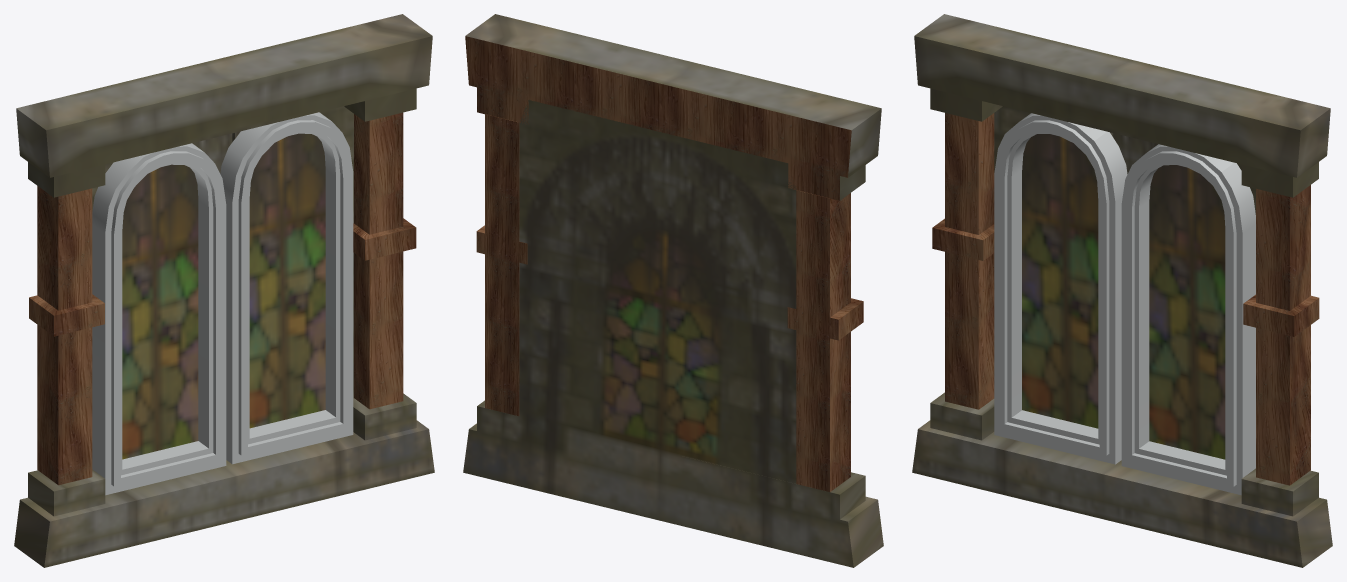
The model's file is window.fbx.
3 renders of one model, left to right at view 1: azimuth 30°, elevation 25°; view 2: azimuth 150°, elevation 25°; view 3: azimuth 330°, elevation 25°, orthographic.
Parts seen in each view (by area): view 1: frame_top, frame_back, mainFrame_l, windowpane_r, windowpane_l, mainFrame_r, support_l, frame_r; view 2: frame_back, frame_top, support_l, frame_r; view 3: frame_top, frame_back, mainFrame_r, windowpane_r, windowpane_l, mainFrame_l, frame_r, support_l.
Part boxes in pixels (<box>): frame_top: <box>16,14,432,197</box>; frame_back: <box>14,106,434,567</box>; mainFrame_l: <box>92,143,226,495</box>; windowpane_r: <box>249,133,325,428</box>; windowpane_l: <box>122,164,198,459</box>; mainFrame_r: <box>220,112,353,464</box>; support_l: <box>29,186,104,485</box>; frame_r: <box>353,112,416,409</box>; frame_back: <box>463,99,883,567</box>; frame_top: <box>465,14,881,200</box>; support_l: <box>787,190,863,491</box>; frame_r: <box>476,114,527,416</box>; frame_top: <box>914,14,1330,197</box>; frame_back: <box>912,106,1332,567</box>; mainFrame_r: <box>1121,144,1255,495</box>; windowpane_r: <box>1149,165,1225,459</box>; windowpane_l: <box>1022,134,1098,428</box>; mainFrame_l: <box>994,113,1127,464</box>; frame_r: <box>1243,185,1319,485</box>; support_l: <box>932,113,994,409</box>.
Size of the model in its own units: 5.58 by 5.96 by 0.7483.
